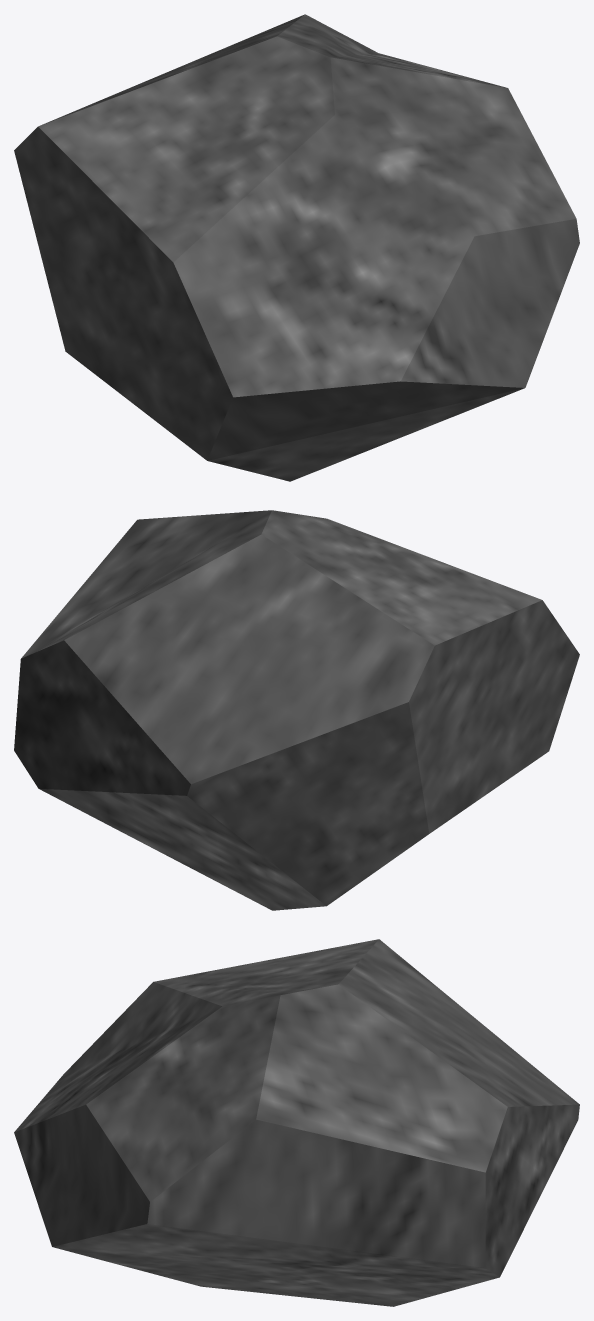
Rendered from med rock3.obj.
The picture shows the model from 3 angles, top to bottom: view 1: azimuth 30°, elevation 25°; view 2: azimuth 150°, elevation 25°; view 3: azimuth 270°, elevation 25°; orthographic projection. The views are drawn at different scales.
Visible parts, largest first — view 1: mediun_rock_3; view 2: mediun_rock_3; view 3: mediun_rock_3.
Boxes of the visible parts, <box> form: mediun_rock_3: <box>14,14,579,481</box>; mediun_rock_3: <box>14,510,579,910</box>; mediun_rock_3: <box>14,939,579,1306</box>.
Bounding box in the file's own units: 1.35 × 1.21 × 1.82.
1 material, 1 textured.
